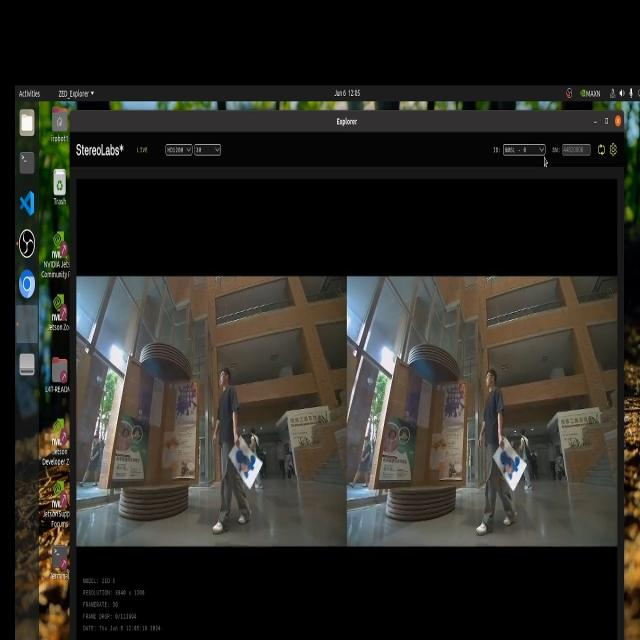blue: (494, 434, 524, 483), (233, 435, 261, 475)
